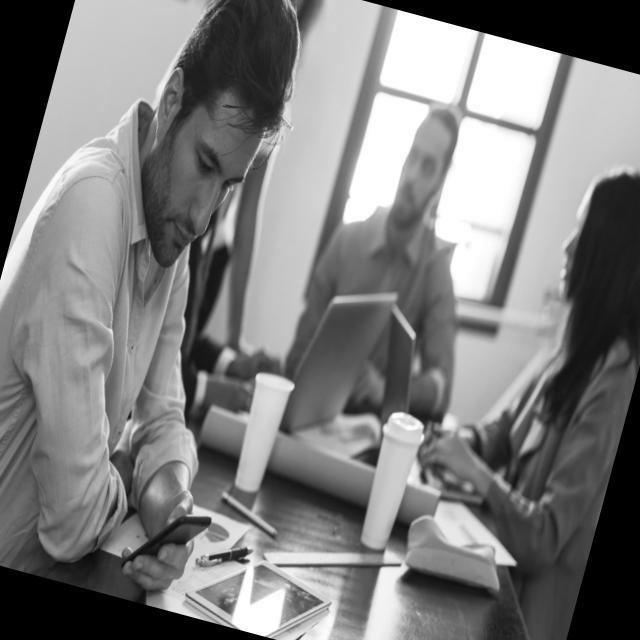phone: (119, 496, 212, 588), (194, 532, 254, 578)
